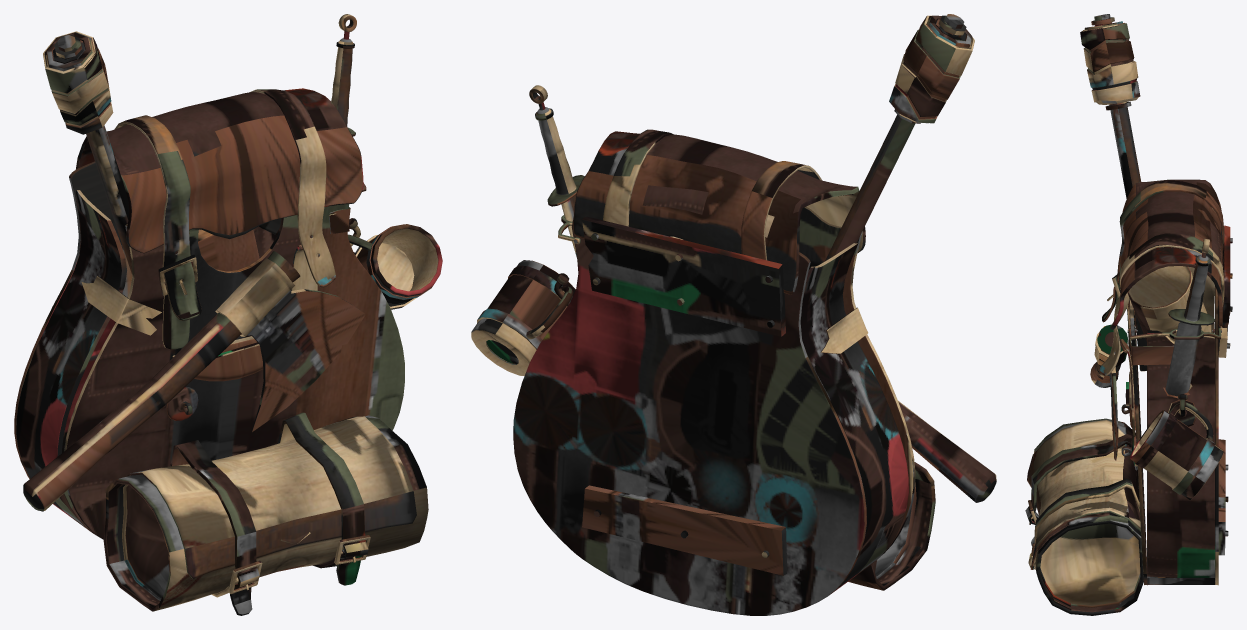
Rendered from backpack.obj.
3 renders of one model, left to right at view 1: azimuth 30°, elevation 25°; view 2: azimuth 150°, elevation 25°; view 3: azimuth 270°, elevation 25°, orthographic. The views are drawn at different scales.
Visible parts, largest first — view 1: Cylinder.030__0, Plane.008__0, Plane.011__0, Plane.009__0, Plane.014__0, Cube.037__0, Cylinder.033__0, Cylinder.031__0, Cylinder.049__0, Cylinder.034__0, Plane.010__0, Cylinder.029__0 (+6 smaller); view 2: Plane.010__0, Plane.011__0, Cube.030__0, Plane.009__0, Cube.032__0, Cylinder.049__0, Cylinder.034__0, Plane.014__0, Plane.008__0, Cylinder.030__0, Cylinder.029__0, Cylinder.033__0 (+2 smaller); view 3: Cylinder.030__0, Plane.009__0, Plane.011__0, Cylinder.049__0, Plane.014__0, Cylinder.034__0, Cylinder.035__0, Cylinder.032__0, Cylinder.031__0, Cylinder.029__0, Plane.008__0, Plane.010__0 (+7 smaller).
Part boxes in pixels (box(x1,y1,x2,y2)): Cylinder.030__0: box(103, 415, 428, 611); Plane.008__0: box(64, 204, 404, 539); Plane.011__0: box(76, 88, 363, 253); Plane.009__0: box(16, 190, 126, 537); Plane.014__0: box(114, 89, 335, 349); Cube.037__0: box(215, 258, 365, 431); Cylinder.033__0: box(23, 251, 300, 511); Cylinder.031__0: box(170, 412, 368, 615); Cylinder.049__0: box(348, 224, 442, 309); Cylinder.034__0: box(43, 31, 113, 134); Plane.010__0: box(14, 161, 276, 478); Cylinder.029__0: box(54, 35, 131, 273); Plane.010__0: box(513, 216, 866, 615); Plane.011__0: box(573, 131, 865, 294); Cube.030__0: box(582, 216, 785, 336); Plane.009__0: box(800, 243, 908, 593); Cube.032__0: box(582, 485, 787, 575); Cylinder.049__0: box(471, 260, 575, 375); Cylinder.034__0: box(889, 15, 974, 123); Plane.014__0: box(603, 129, 822, 260); Plane.008__0: box(799, 207, 915, 554); Cylinder.030__0: box(848, 462, 935, 590); Cylinder.029__0: box(825, 14, 966, 261); Cylinder.033__0: box(898, 400, 996, 502); Cylinder.030__0: box(1027, 418, 1143, 615); Plane.009__0: box(1147, 267, 1214, 584); Plane.011__0: box(1110, 179, 1222, 329); Cylinder.049__0: box(1130, 402, 1223, 499); Plane.014__0: box(1099, 180, 1224, 408); Cylinder.034__0: box(1080, 21, 1140, 104); Cylinder.035__0: box(1127, 266, 1211, 341); Cylinder.032__0: box(1165, 238, 1215, 396); Cylinder.031__0: box(1025, 434, 1139, 569); Cylinder.029__0: box(1091, 14, 1141, 198); Plane.008__0: box(1129, 299, 1147, 585); Plane.010__0: box(1215, 286, 1218, 585).
Bounding box in the file's own units: 3.74 × 4.63 × 1.81.
